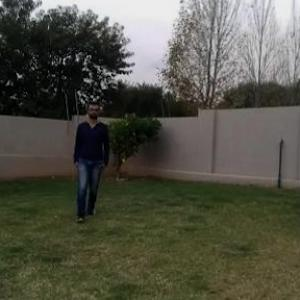follow: (75, 105, 103, 218)
